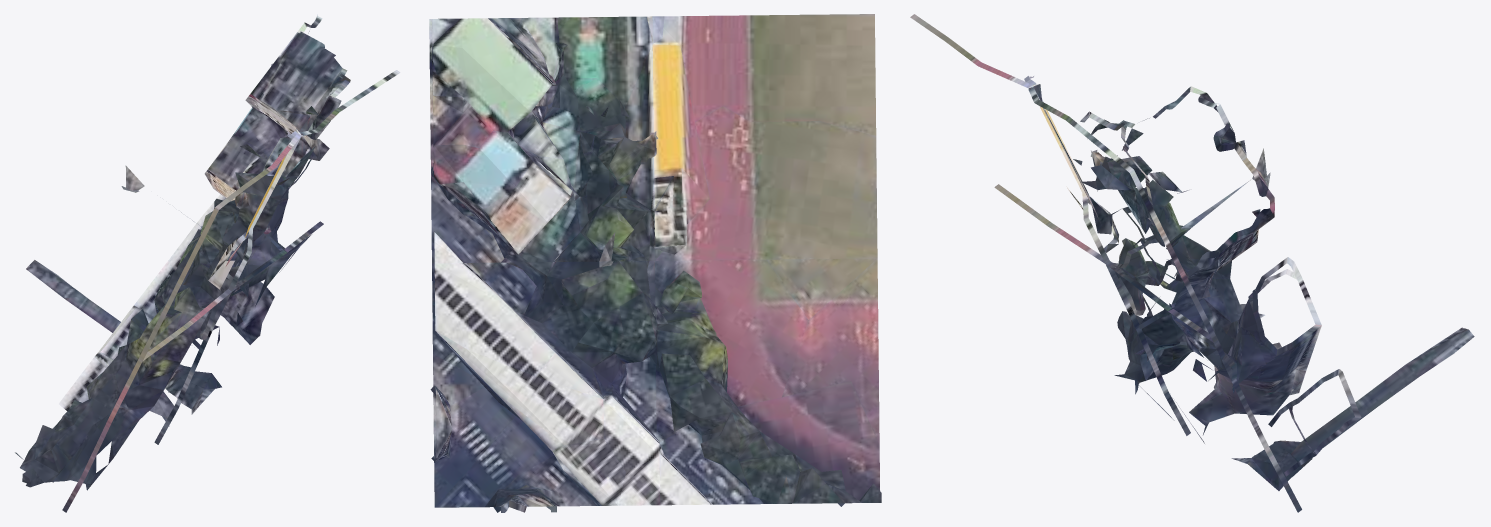
3 renders of one model, left to right at view 1: azimuth 30°, elevation 25°; view 2: azimuth 150°, elevation 25°; view 3: azimuth 270°, elevation 25°, orthographic. The views are drawn at different scales.
Size of the model in its own units: 81.05 by 77.32 by 92.34.
Materials: 1 (1 with a texture image).
